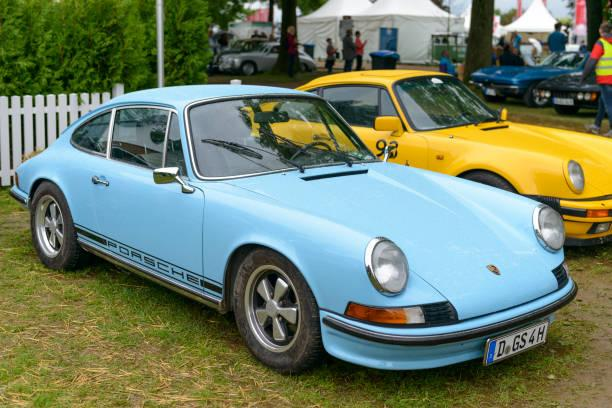porsche: (482, 260, 503, 279)
